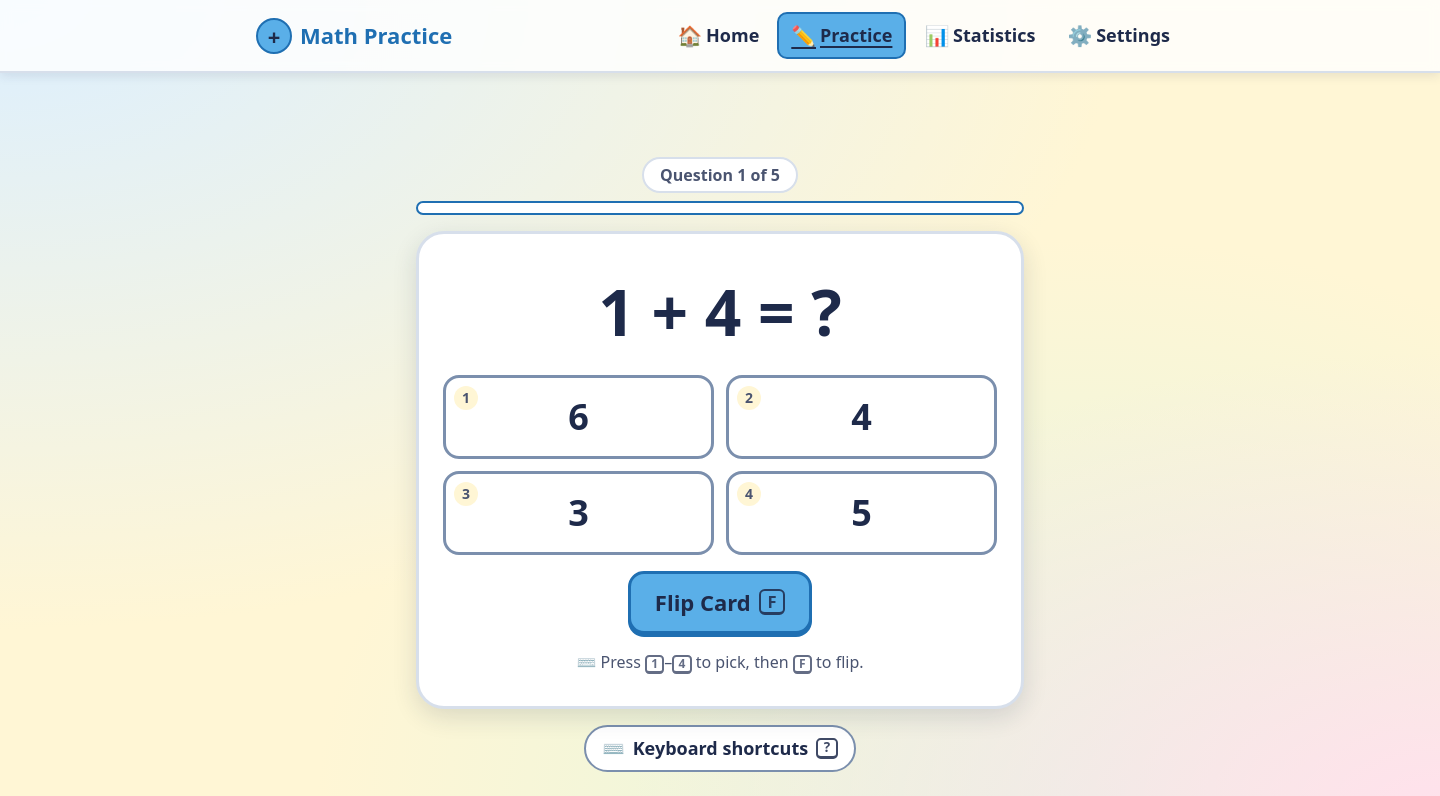
Test: shortcut help › opens with the ? key and with the button, and closes with Esc
Type keys "?"
(page scrolled)
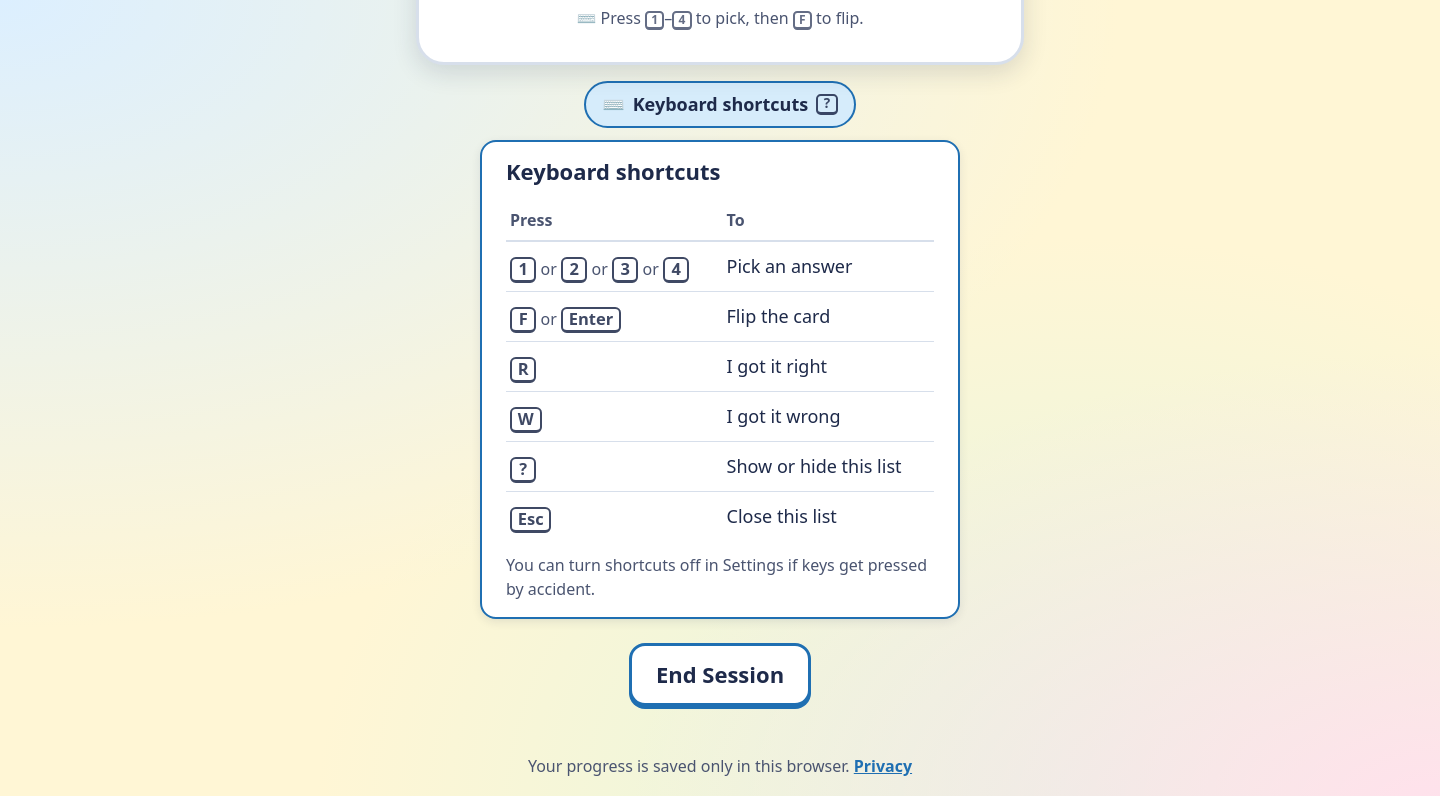
Result: the button "⌨️ Keyboard shortcuts ?" is expanded at [584,81,856,128]
Result: the text "Flip the card" is shown at [722,292,934,342]
Result: the text "I got it wrong" is shown at [722,392,934,442]
Press Escape
(page scrolled)
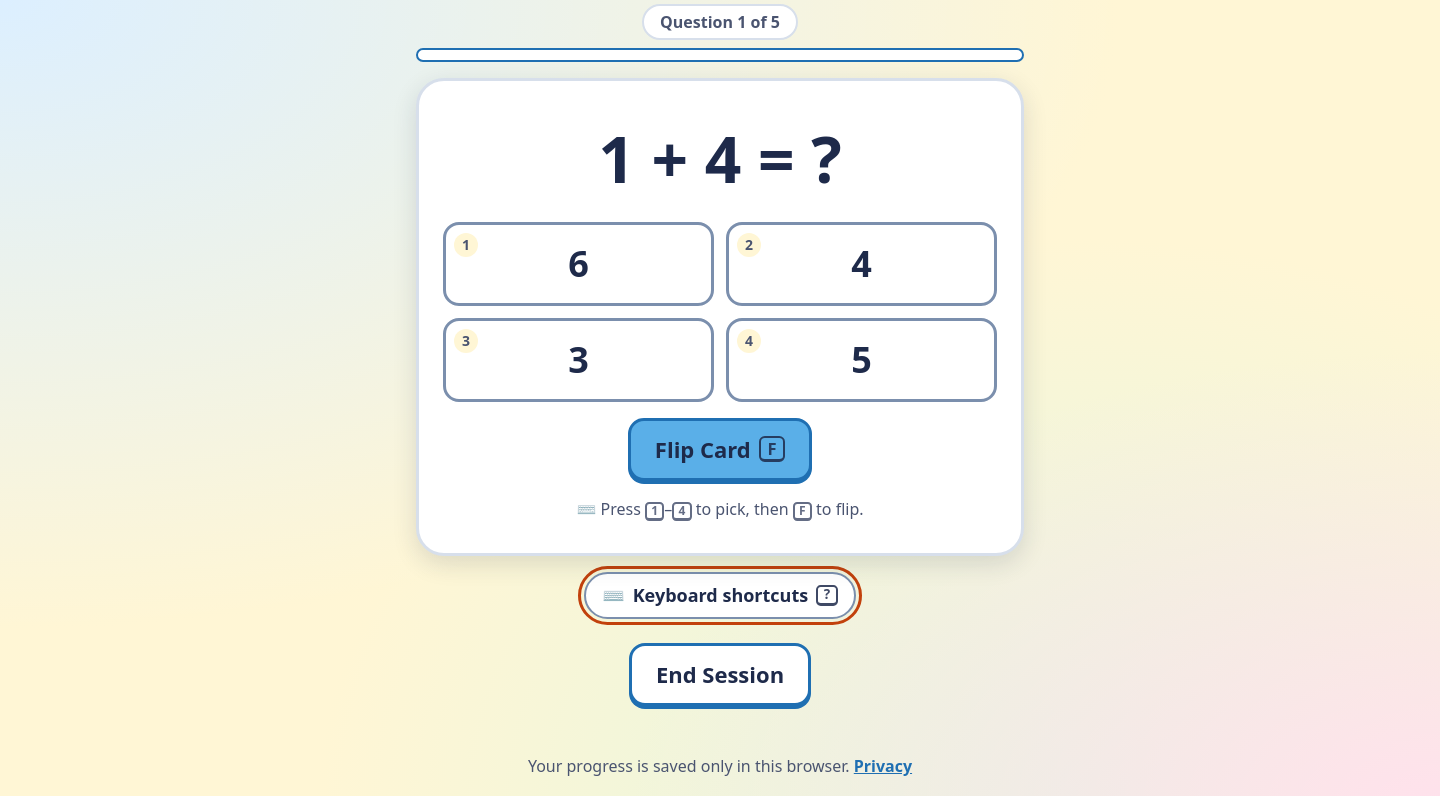
Result: the button "⌨️ Keyboard shortcuts ?" is collapsed
Click the button "⌨️ Keyboard shortcuts ?".
click(720, 595)  # box [584,572,856,619]
(page scrolled)
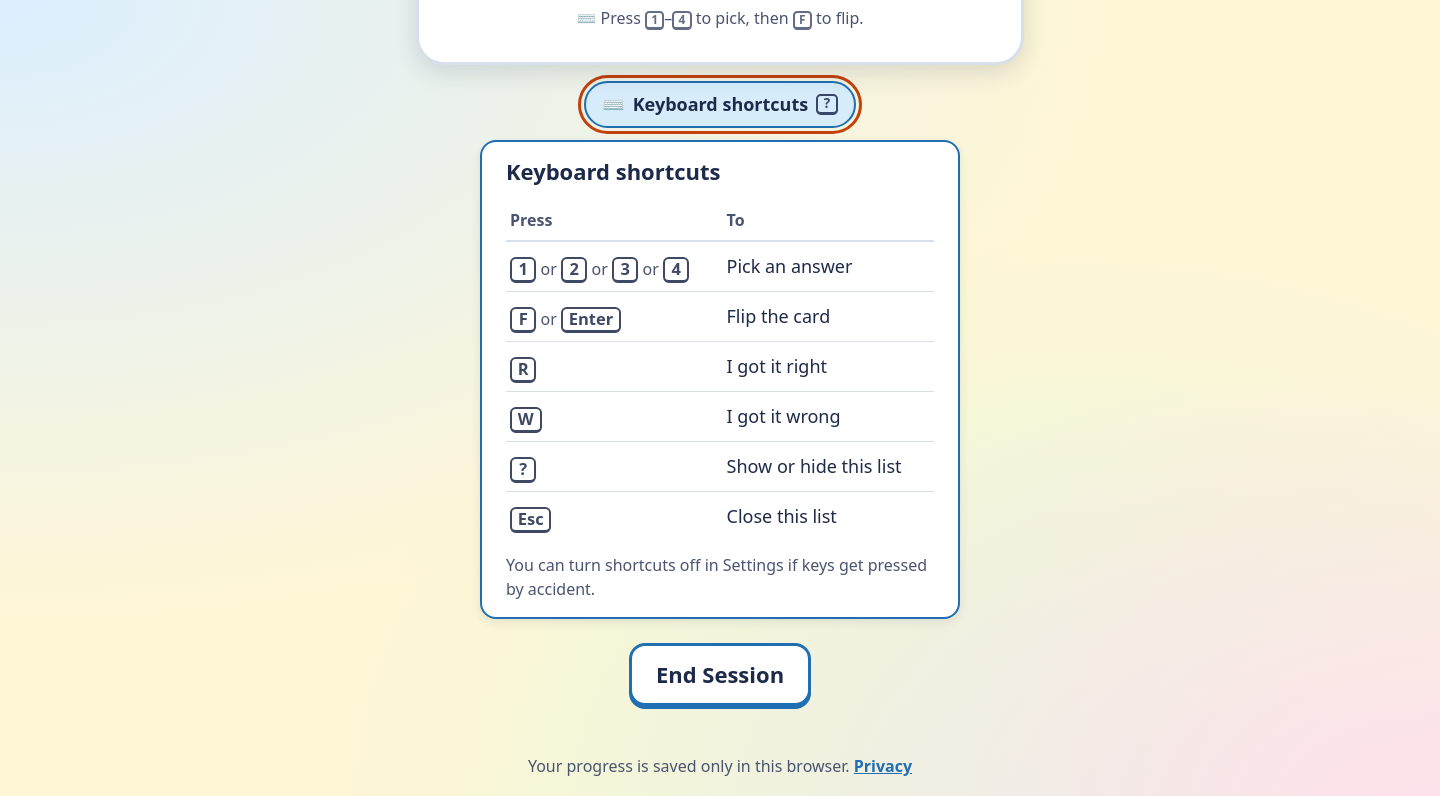
Result: the button "⌨️ Keyboard shortcuts ?" is expanded at [584,81,856,128]
